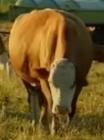cow: (9, 8, 93, 137)
